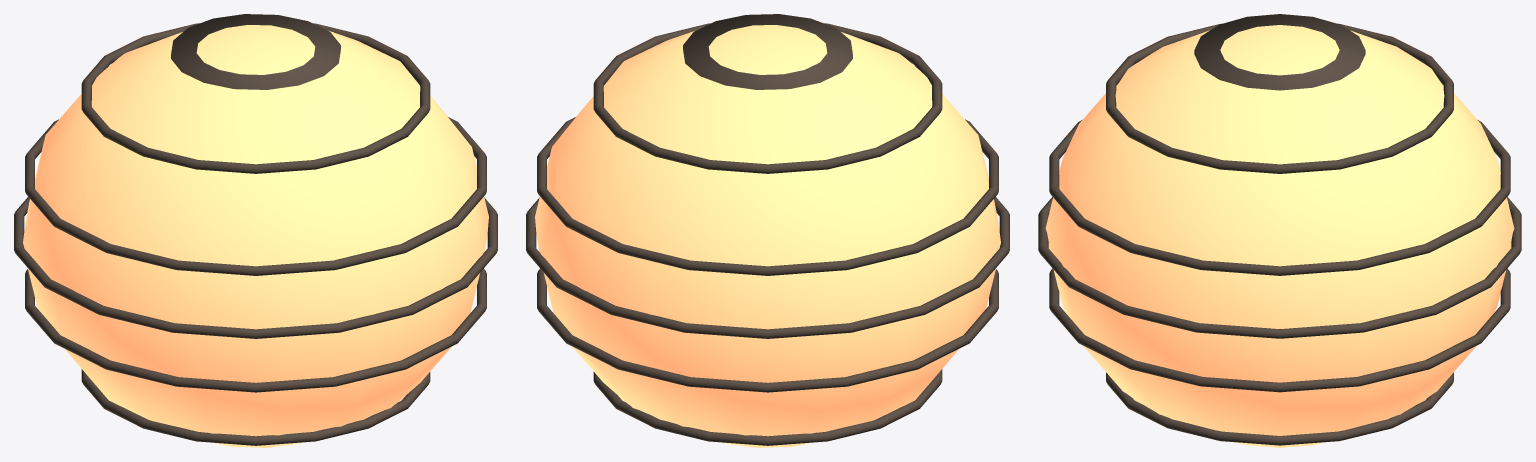
Rendered from prop_chochin.glb.
The picture shows the model from 3 angles, left to right: view 1: azimuth 30°, elevation 25°; view 2: azimuth 150°, elevation 25°; view 3: azimuth 270°, elevation 25°; orthographic projection.
Parts seen in each view (by area): view 1: chochin; view 2: chochin; view 3: chochin.
Part boxes in pixels (x1,y1,x2,y2): chochin: (14, 14, 497, 447); chochin: (526, 14, 1009, 447); chochin: (1038, 14, 1521, 447).
Bounding box in the file's own units: 1.15 × 0.99 × 1.13.
